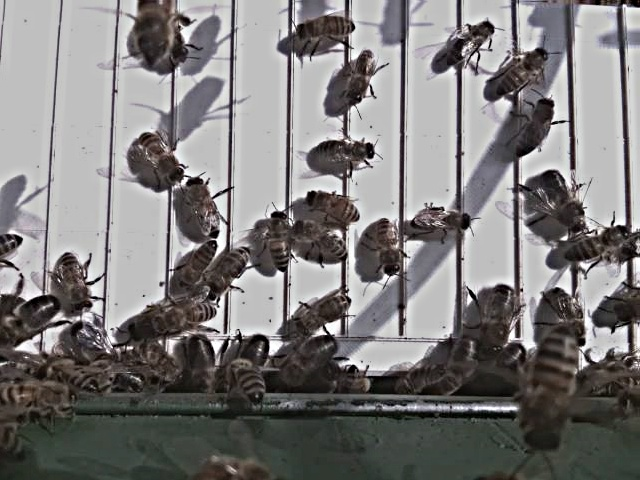Drone: (540, 165, 590, 235), (478, 278, 520, 360)
Worker: (498, 43, 553, 100), (514, 94, 560, 159), (561, 223, 634, 262), (138, 127, 186, 185), (443, 19, 500, 67), (183, 173, 223, 241), (206, 242, 256, 296), (154, 296, 223, 335), (293, 291, 358, 332), (58, 250, 98, 314), (296, 218, 353, 262), (179, 236, 221, 290), (295, 11, 358, 43), (413, 203, 476, 235), (346, 47, 379, 106), (306, 188, 363, 222), (373, 215, 402, 278), (266, 206, 293, 273), (318, 135, 379, 163)
